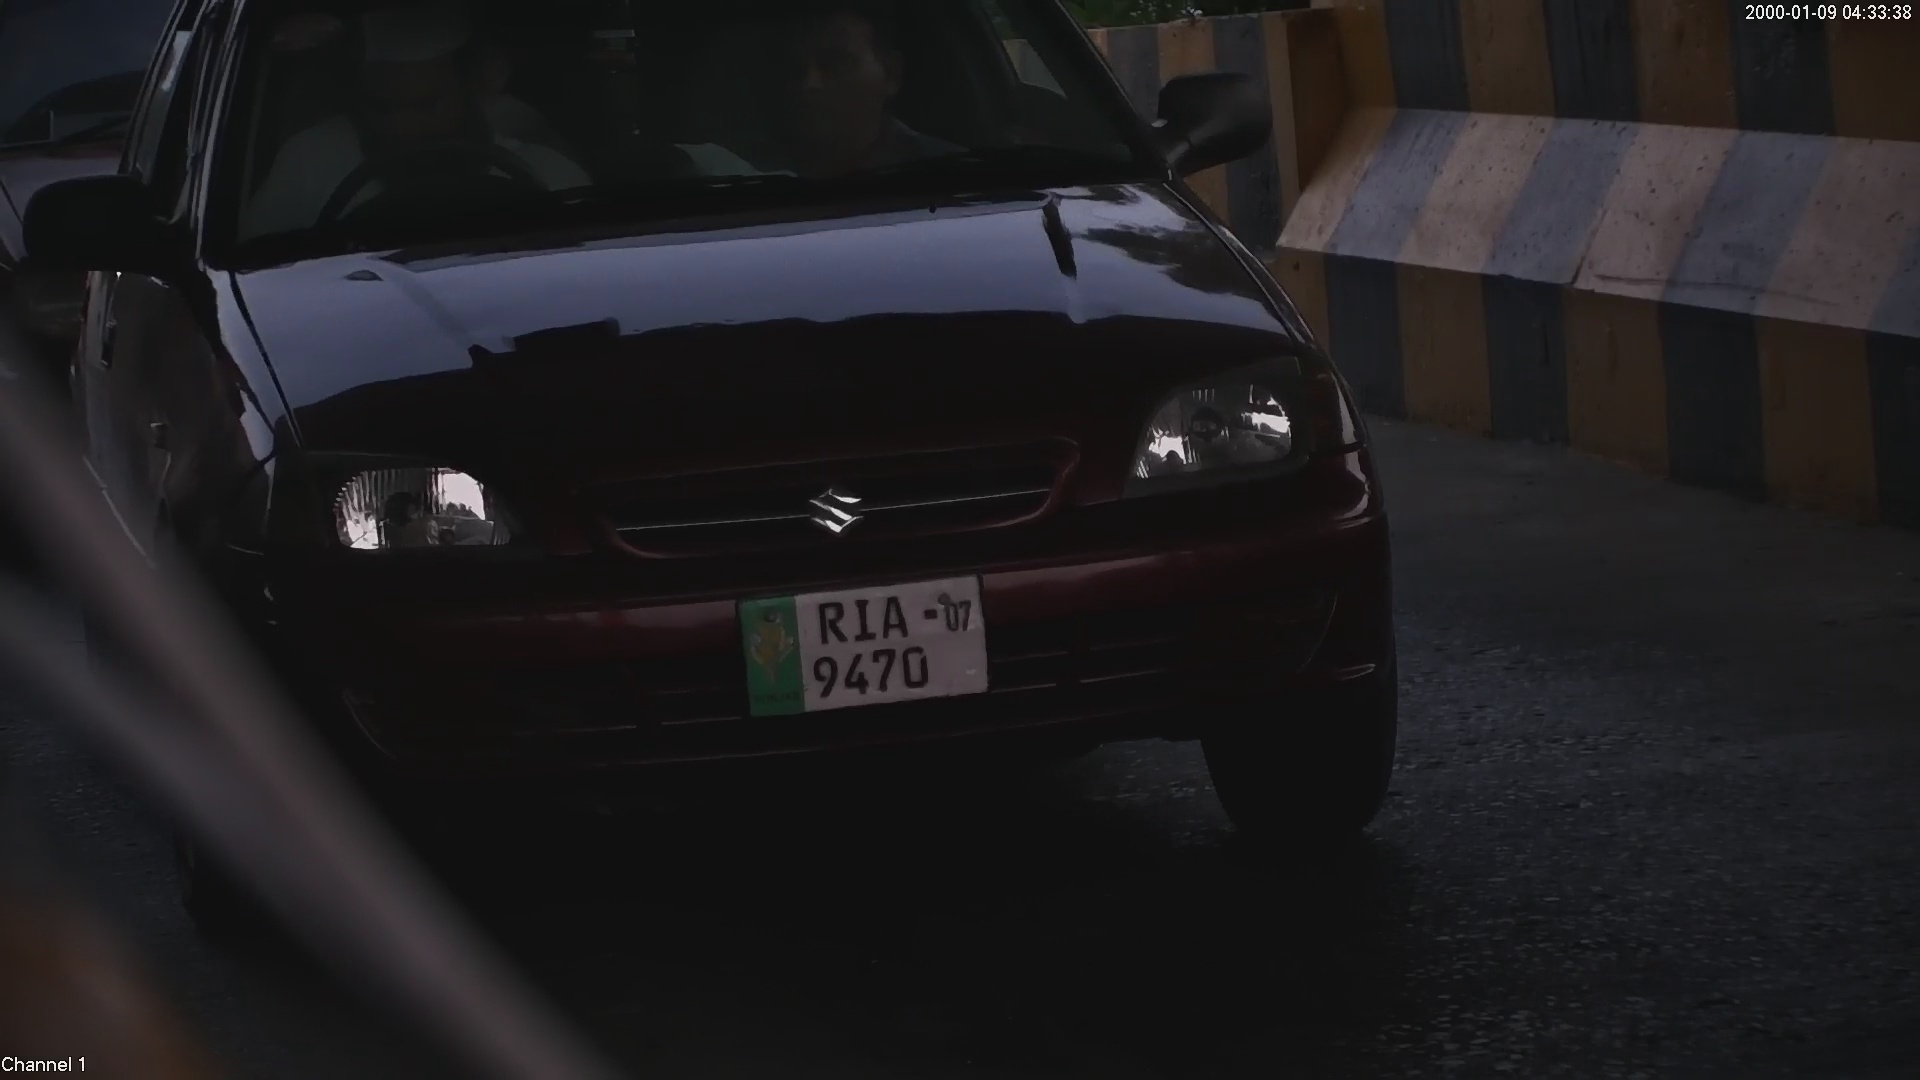Number_Plate: (726, 557, 997, 705)
Undefined: (1134, 368, 1328, 488), (297, 457, 508, 562), (800, 477, 869, 536)
